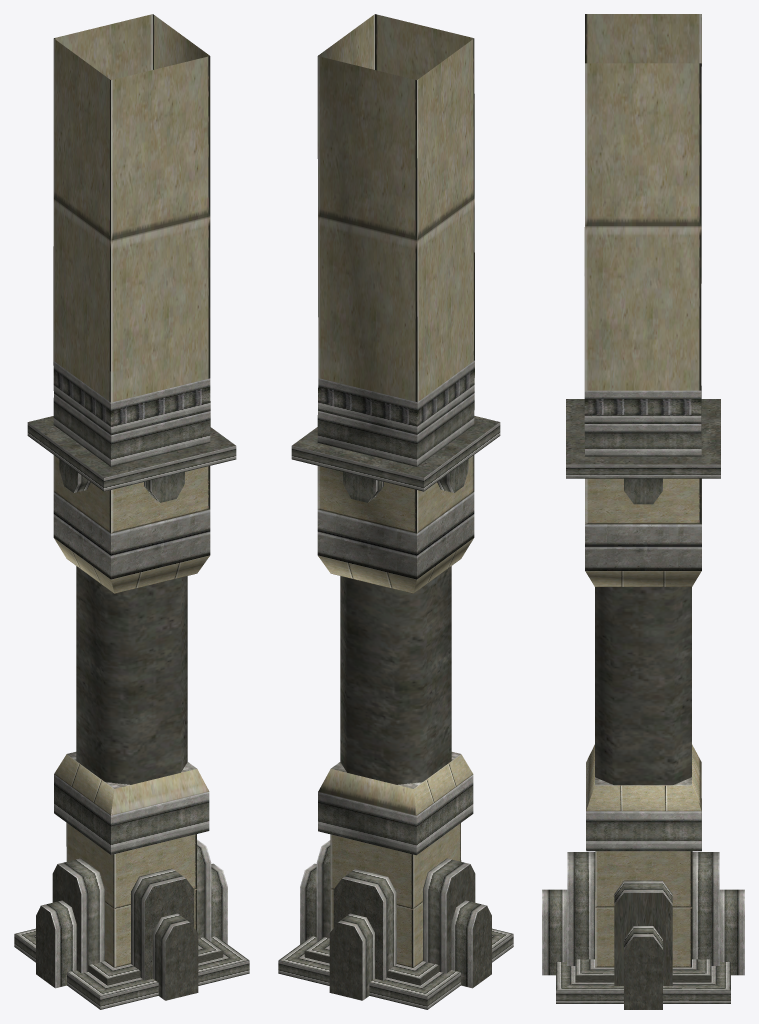
The model's file is L_MOUNT_WATERROOM_COLUMN.fbx.
3 renders of one model, left to right at view 1: azimuth 30°, elevation 25°; view 2: azimuth 150°, elevation 25°; view 3: azimuth 270°, elevation 25°, orthographic.
Parts seen in each view (by area): view 1: L_MOUNT_WATERROOM_COLUMN; view 2: L_MOUNT_WATERROOM_COLUMN; view 3: L_MOUNT_WATERROOM_COLUMN.
Boxes of the visible parts, <box> form: L_MOUNT_WATERROOM_COLUMN: <box>14,14,249,1009</box>; L_MOUNT_WATERROOM_COLUMN: <box>278,14,513,1009</box>; L_MOUNT_WATERROOM_COLUMN: <box>542,14,744,1009</box>.
Bounding box in the file's own units: 41699 × 210727 × 41699.
Materials: 8 (8 with a texture image).
